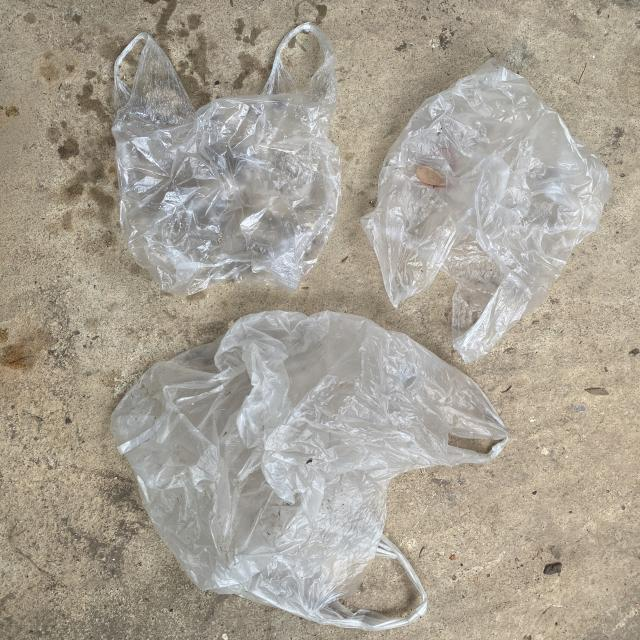Single-layer Plastic: (111, 311, 509, 630), (361, 59, 612, 362), (112, 24, 341, 295)
